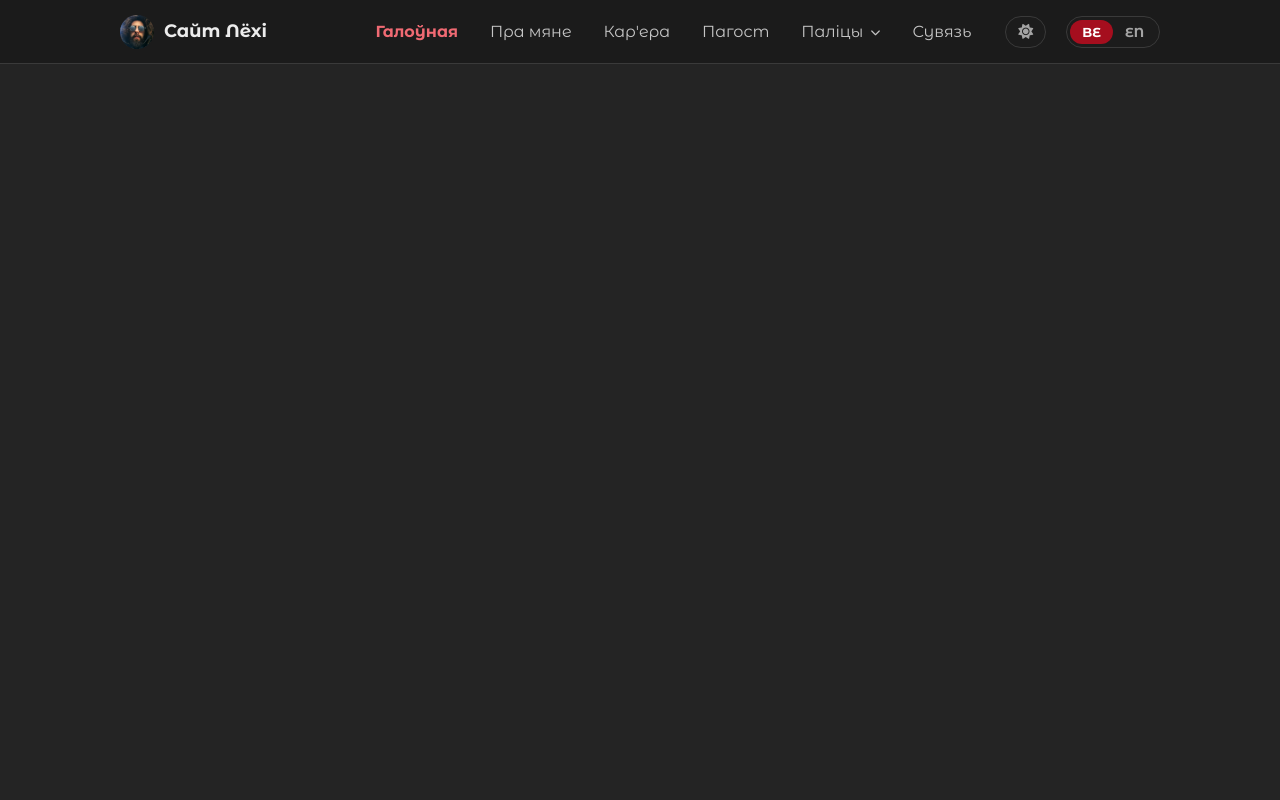
Test case: «Паліцы» in the nav › opens on click and closes on Escape and on an outside click
Click the button "Паліцы": x=841, y=32 [787, 14, 894, 49]
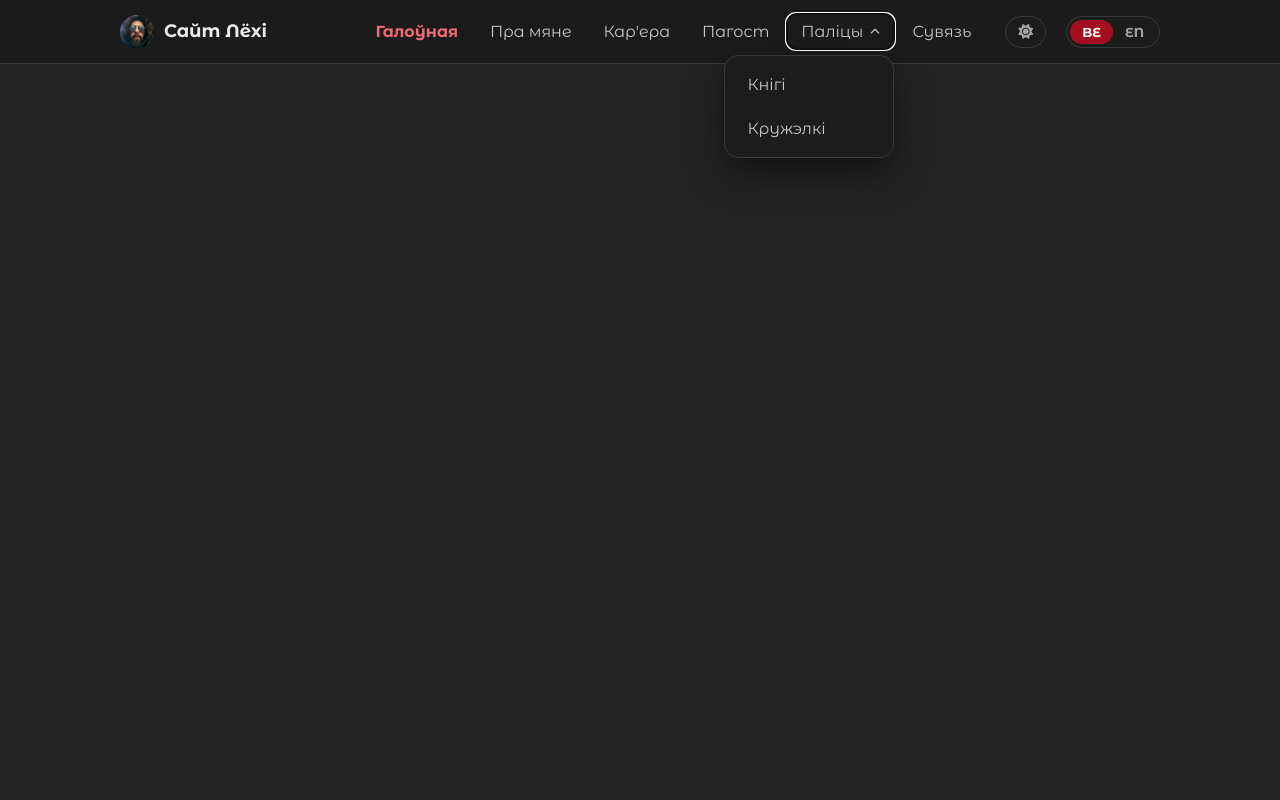
Result: the button "Паліцы" is expanded at [787, 14, 894, 49]
Press Escape
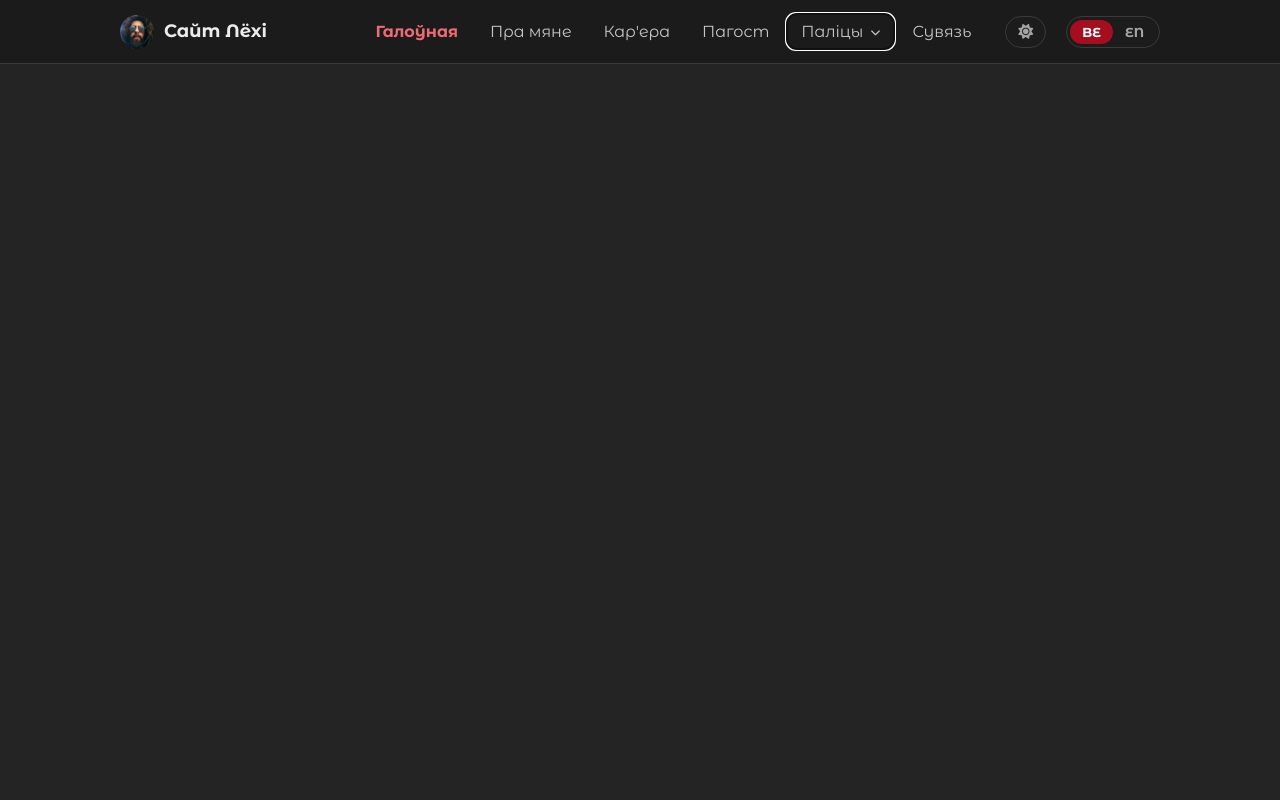
Result: the button "Паліцы" is collapsed
Click the button "Паліцы": x=841, y=32 [787, 14, 894, 49]
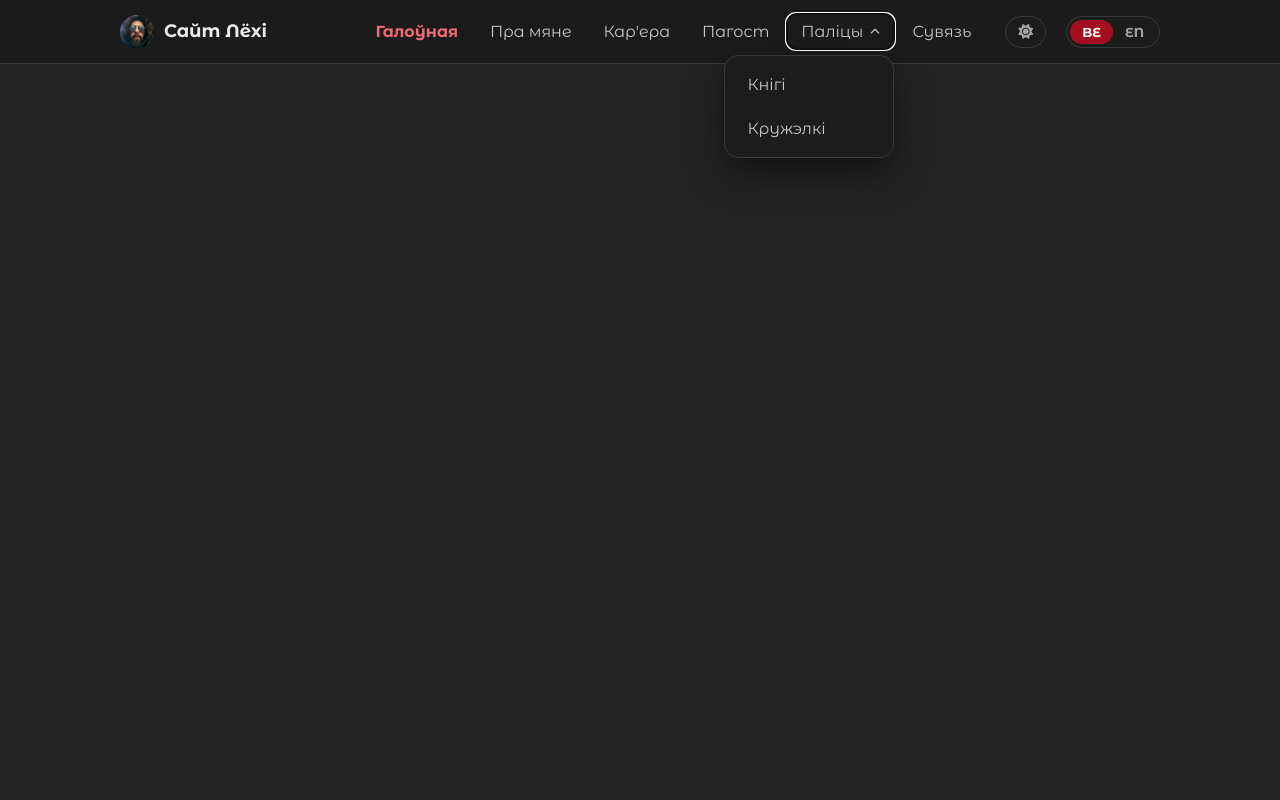
Click the element that starts with "Сайт Лёхі": x=640, y=400 [0, 0, 1279, 799]
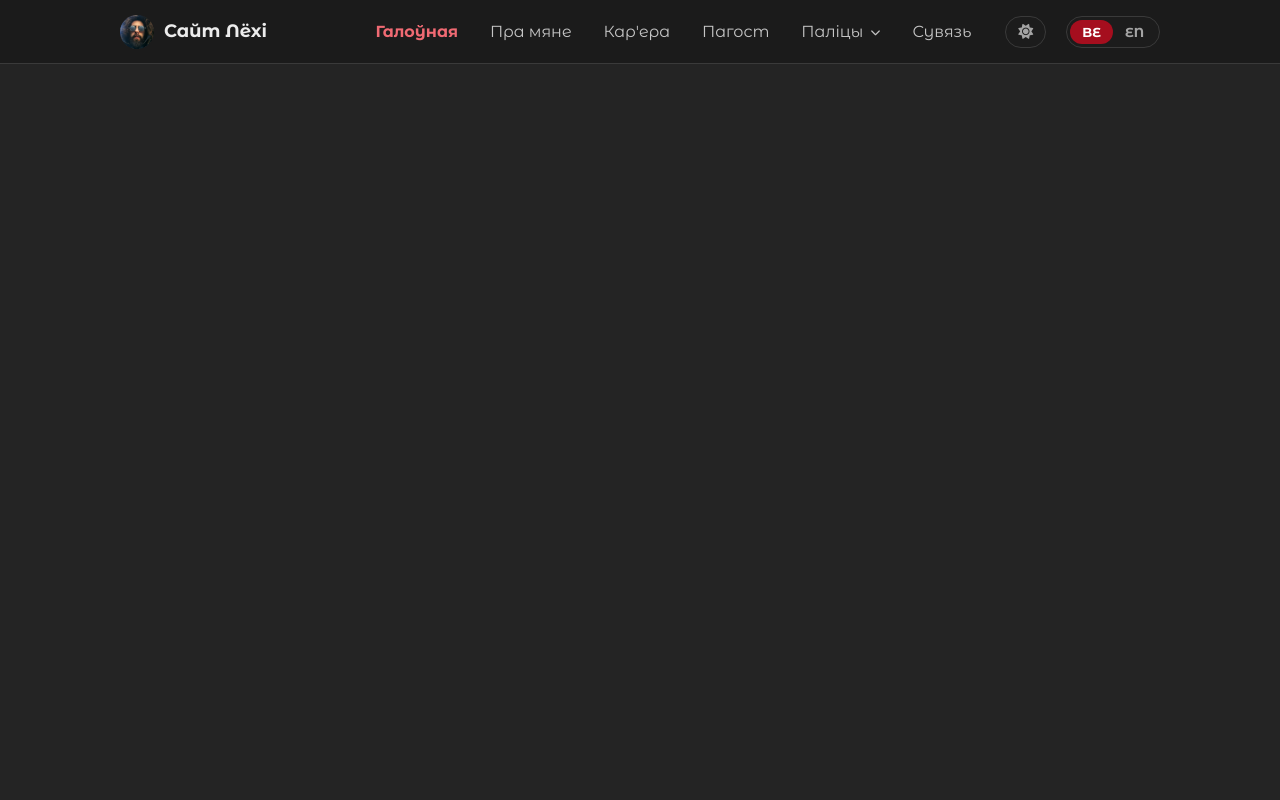
Result: the button "Паліцы" is collapsed at [787, 14, 894, 49]
